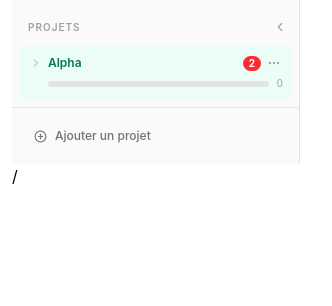
WorkspaceSidebar › attention › opens a change in the Kanban of its workspace
Click the button named "Déplier les actions en attente".
click(36, 63)  # box [28,55,44,71]
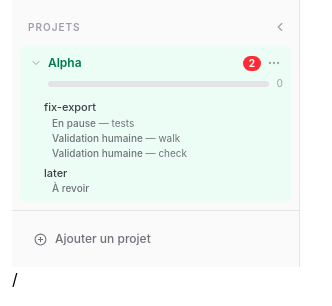
Click the button "later".
click(166, 173)  # box [44,164,287,181]
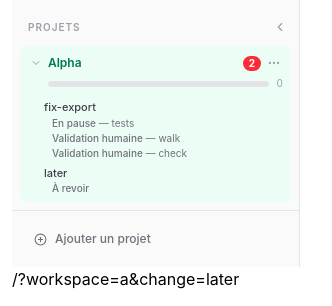
Now the text with test id "where" reads "/?workspace=a&change=later", box [12,269,239,289]
